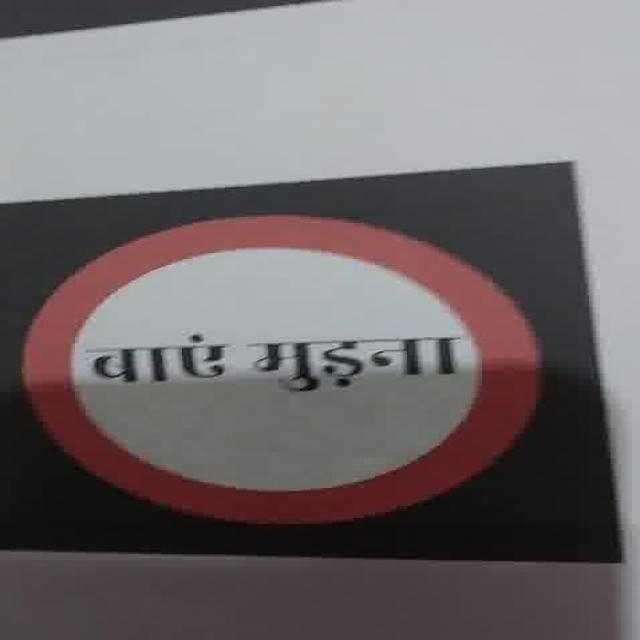hindileft: (21, 212, 545, 524), (86, 332, 463, 392), (52, 322, 245, 416)
